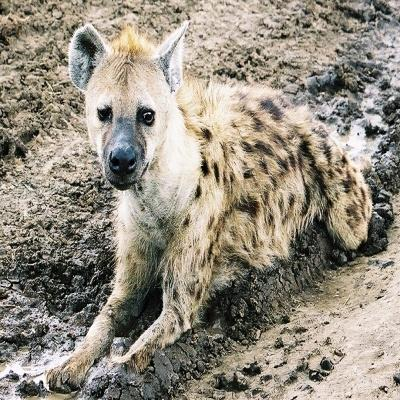hyenas: (40, 20, 400, 400)
